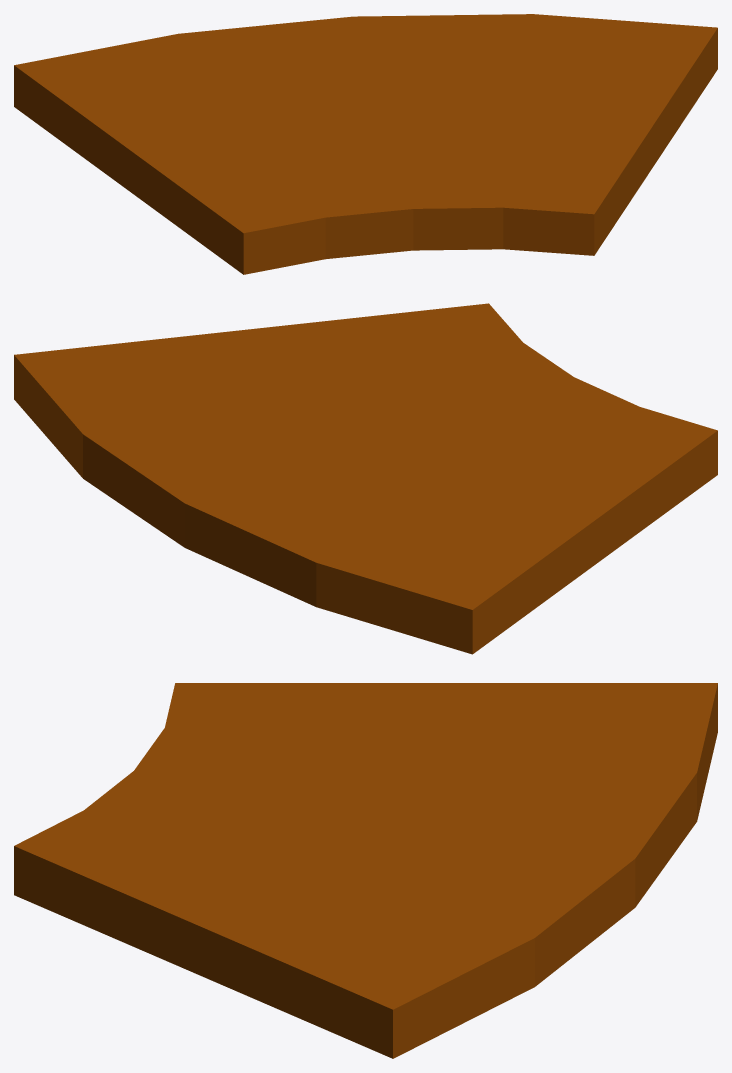
File: Для игры 2.fbx
3 renders of one model, top to bottom at view 1: azimuth 30°, elevation 25°; view 2: azimuth 150°, elevation 25°; view 3: azimuth 270°, elevation 25°, orthographic. The views are drawn at different scales.
Visible parts, largest first — view 1: Circle; view 2: Circle; view 3: Circle.
Part boxes in pixels (x1=…): Circle: x1=14, y1=14, x2=717, y2=274; Circle: x1=14, y1=303, x2=717, y2=654; Circle: x1=14, y1=683, x2=717, y2=1058.
Bounding box in the file's own units: 142 × 10 × 130.
